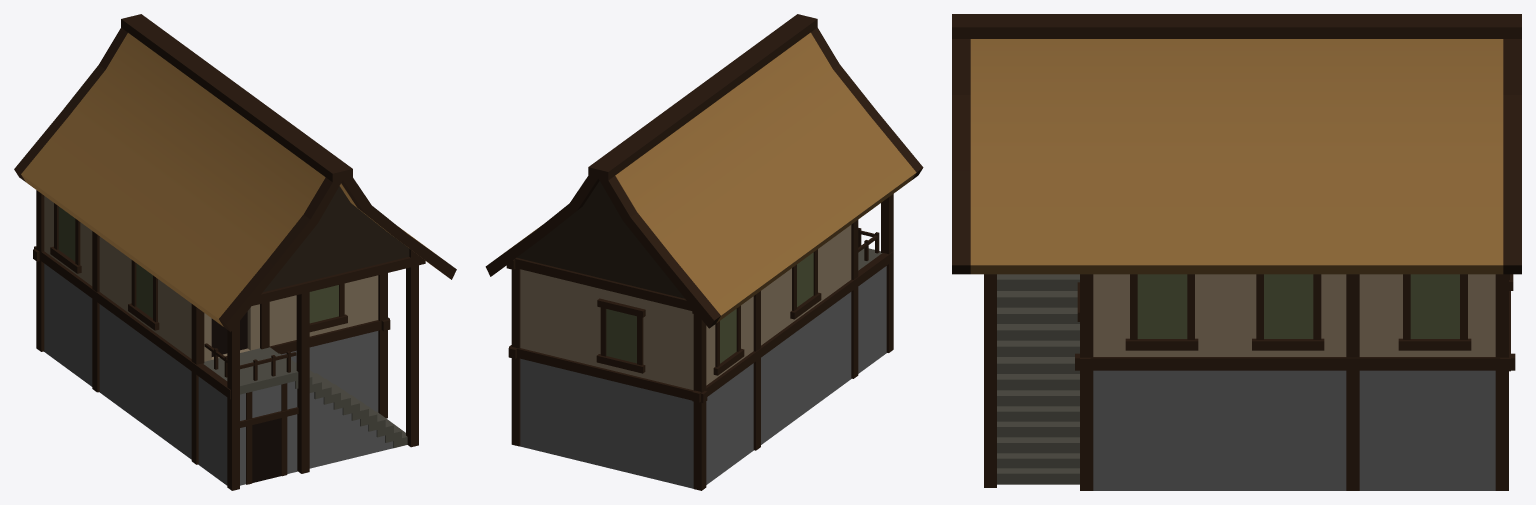
Rendered from domek2.FBX.
3 renders of one model, left to right at view 1: azimuth 30°, elevation 25°; view 2: azimuth 150°, elevation 25°; view 3: azimuth 270°, elevation 25°, orthographic. The views are drawn at different scales.
Visible parts, largest first — view 1: house2; view 2: house2; view 3: house2.
Boxes of the visible parts, x1=… form: house2: x1=14, y1=14, x2=456, y2=490; house2: x1=485, y1=14, x2=923, y2=490; house2: x1=952, y1=14, x2=1521, y2=490.
Bounding box in the file's own units: 113 × 142 × 178.
